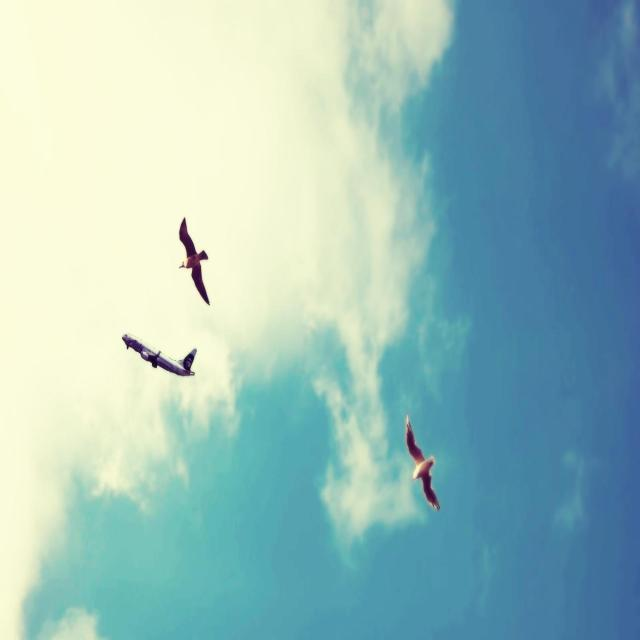airplane: (121, 332, 197, 377)
